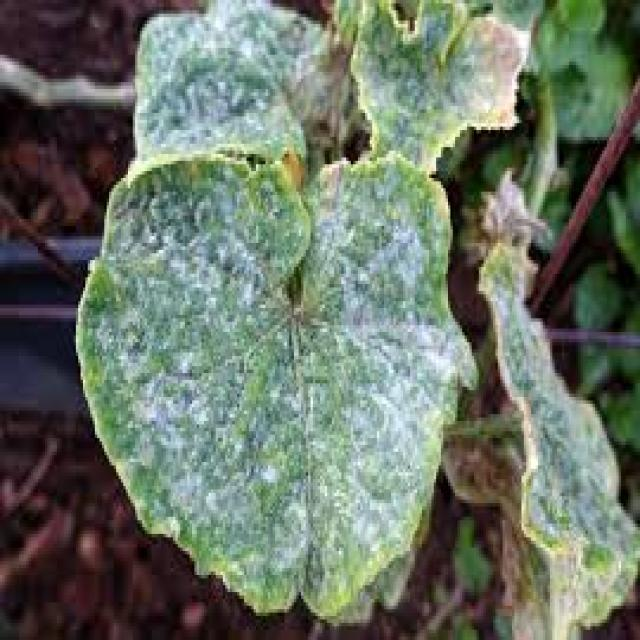powdery-mildew: (127, 174, 405, 533)
